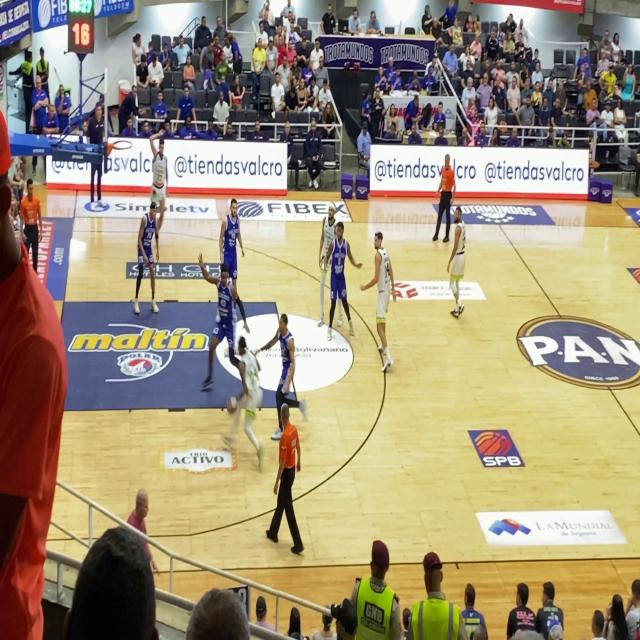Ball: (223, 394, 241, 416)
referee: (264, 402, 306, 568), (15, 160, 48, 275), (434, 146, 454, 250)
team1: (362, 222, 401, 382), (230, 335, 262, 467), (447, 200, 471, 324), (149, 123, 172, 206), (315, 200, 336, 268)
team2: (198, 248, 240, 388), (261, 287, 307, 408), (324, 215, 357, 353), (132, 191, 161, 326), (218, 188, 248, 269)
ubasket: (110, 138, 134, 156)
